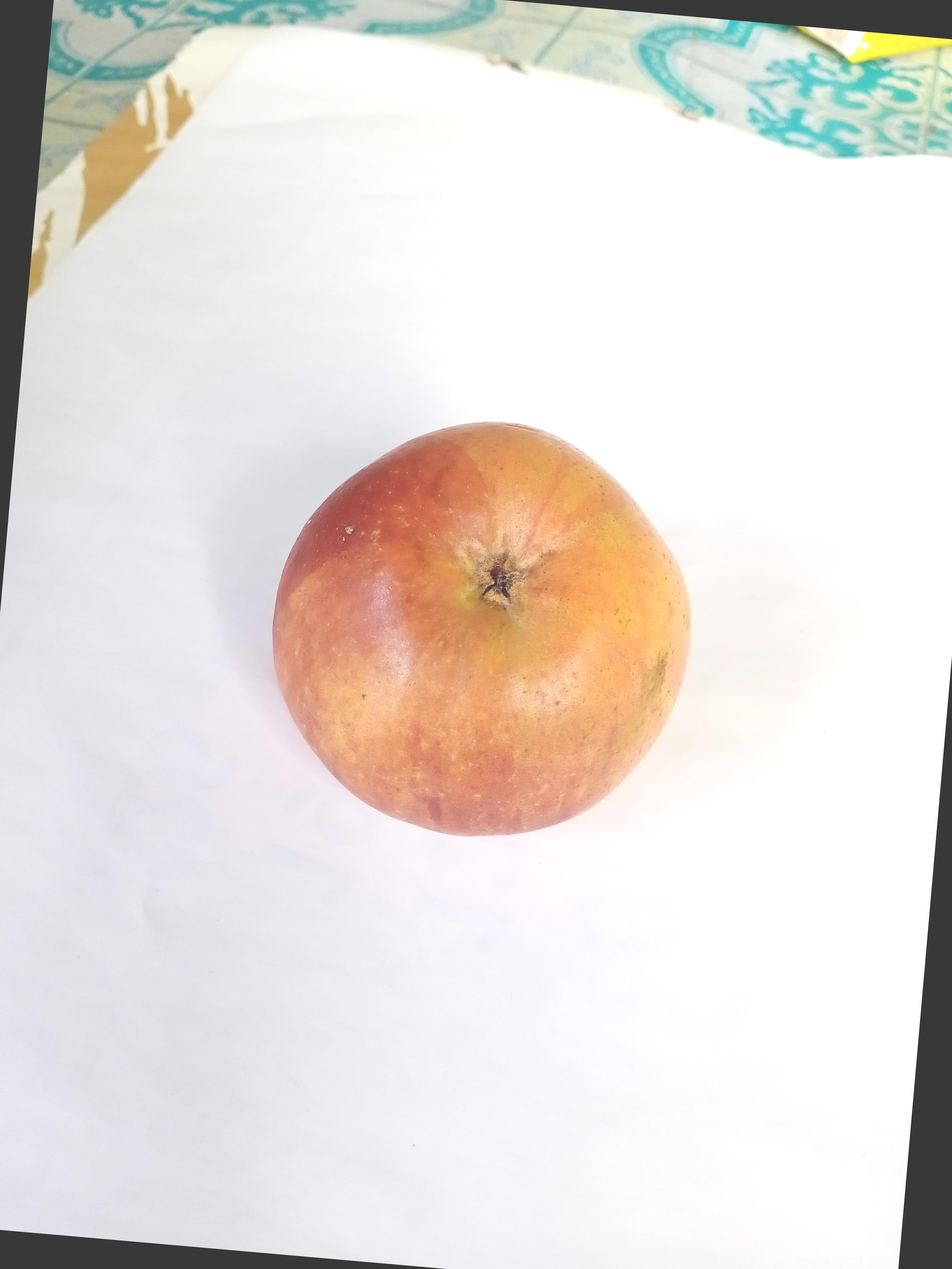Apple Ripe: (289, 309, 809, 866)
